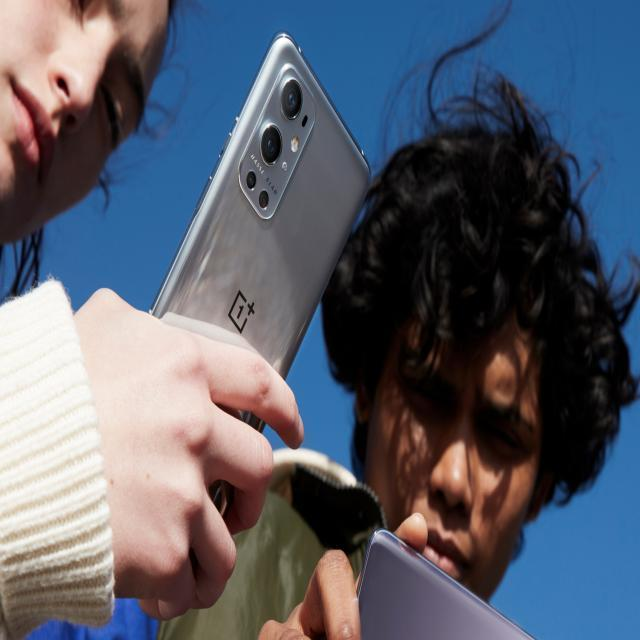Phone: (154, 29, 372, 327)
